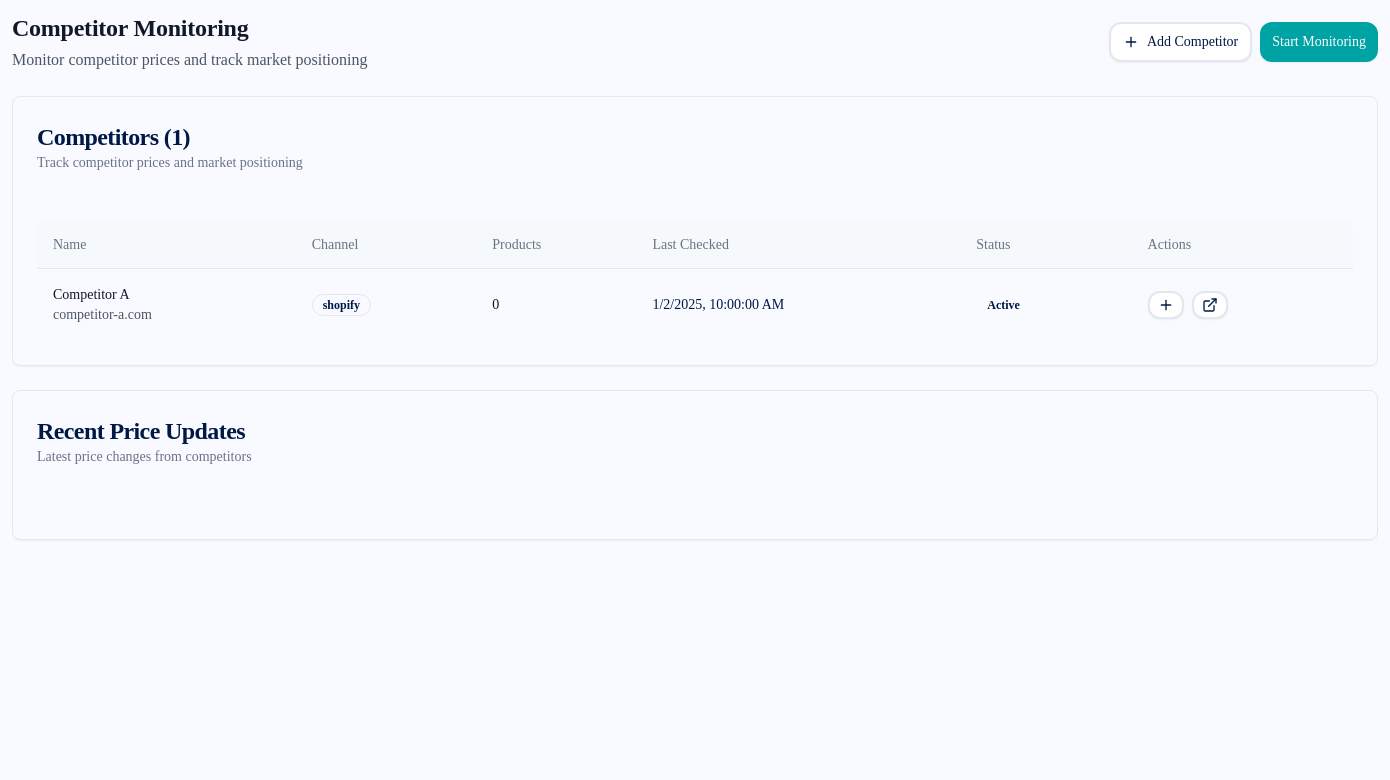
Test: CompetitorMonitor › should handle monitoring authentication error
The width and height of the screenshot is (1390, 780).
Click the button "Start Monitoring" at [1319, 42], box left=1260, top=22, right=1378, bottom=62
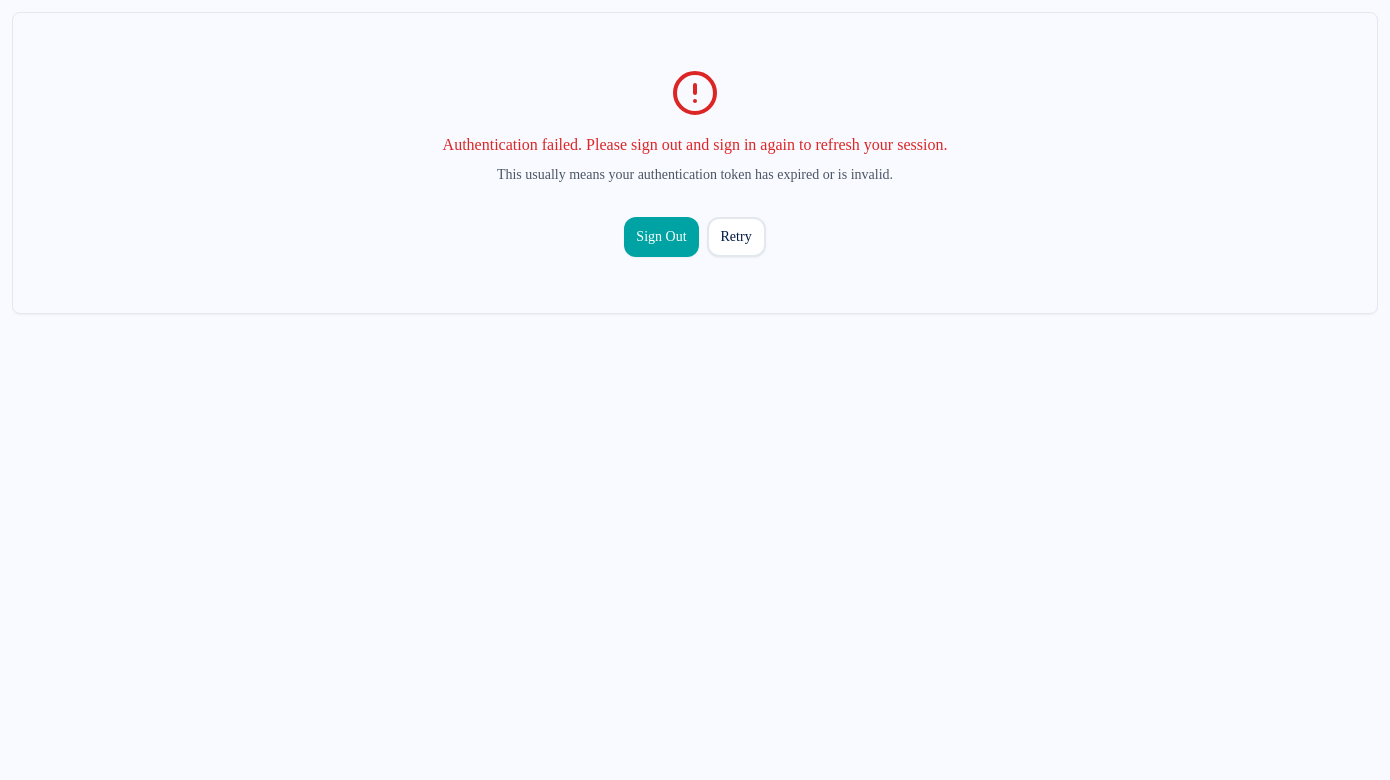
Now the text "Authentication failed" is shown, box left=443, top=136, right=947, bottom=153
Now the button "Sign Out" is shown, box left=624, top=217, right=698, bottom=257
